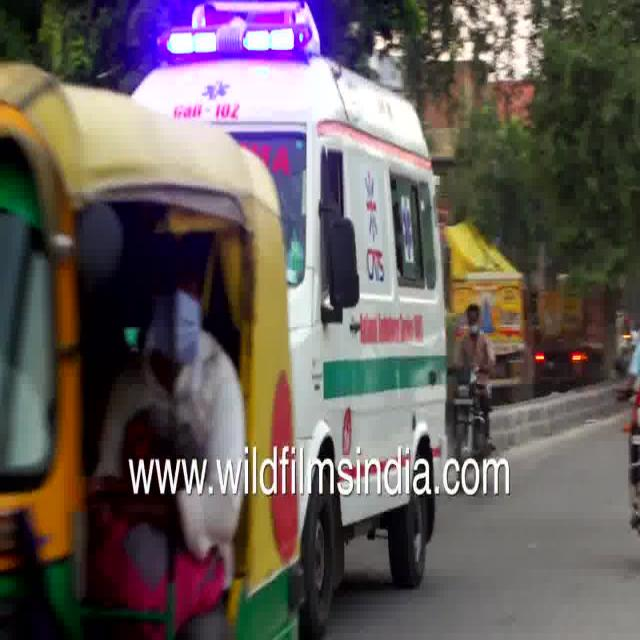ambulance: (291, 122, 468, 441), (152, 10, 444, 140)
